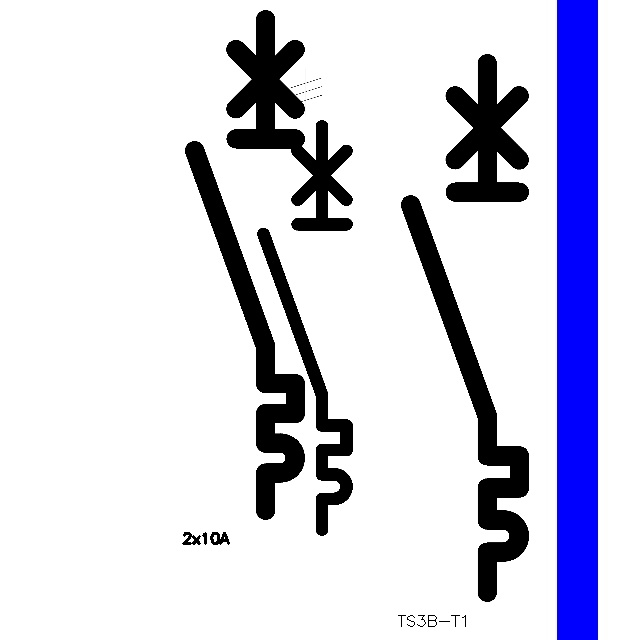interruptor_termomagnetico: (397, 50, 533, 606), (182, 7, 308, 523), (253, 116, 357, 540)
